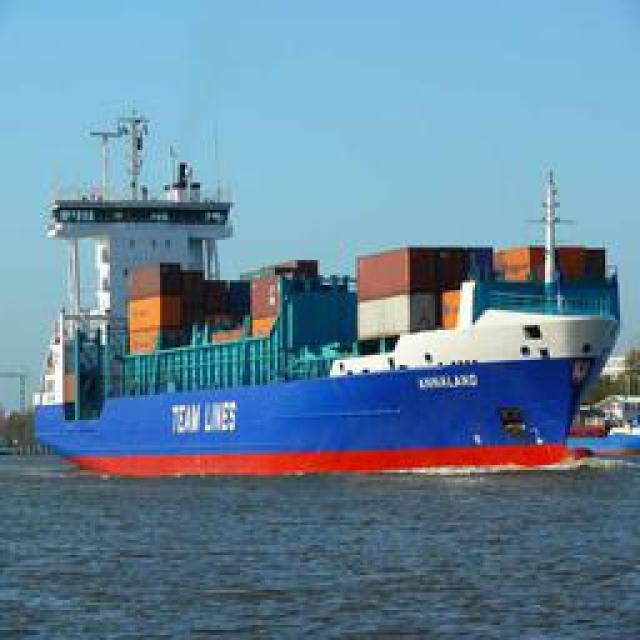Ship: (35, 102, 618, 480)
